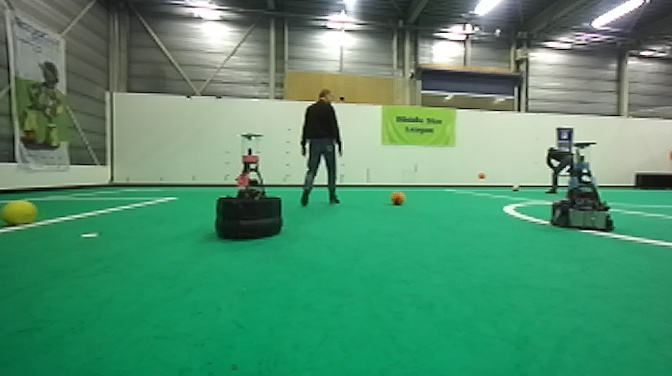ball: (1, 195, 43, 231), (387, 187, 407, 208), (509, 181, 522, 193), (475, 170, 488, 181)
human: (295, 86, 349, 208), (540, 143, 579, 197)
robot: (210, 128, 286, 244), (548, 139, 615, 234)
